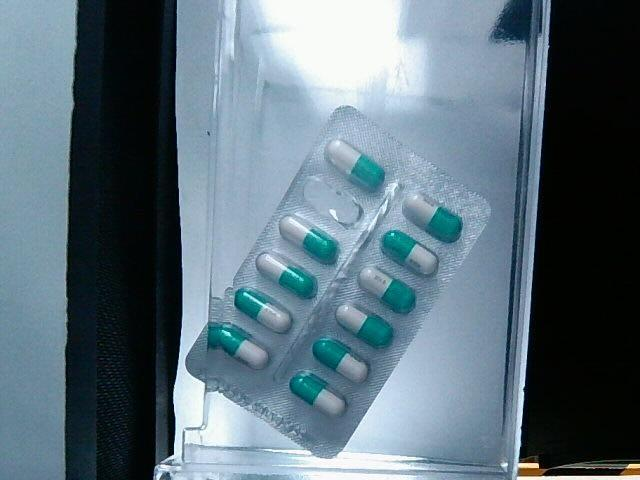Light Front: (182, 107, 491, 460)
No Pill Front: (304, 176, 362, 226)
Pill Front: (251, 247, 320, 302), (275, 212, 341, 265), (402, 189, 464, 244), (322, 138, 386, 191), (229, 285, 293, 337), (355, 264, 419, 315), (285, 371, 349, 422), (378, 227, 440, 278), (334, 302, 395, 352), (211, 323, 271, 373), (311, 337, 371, 386)
